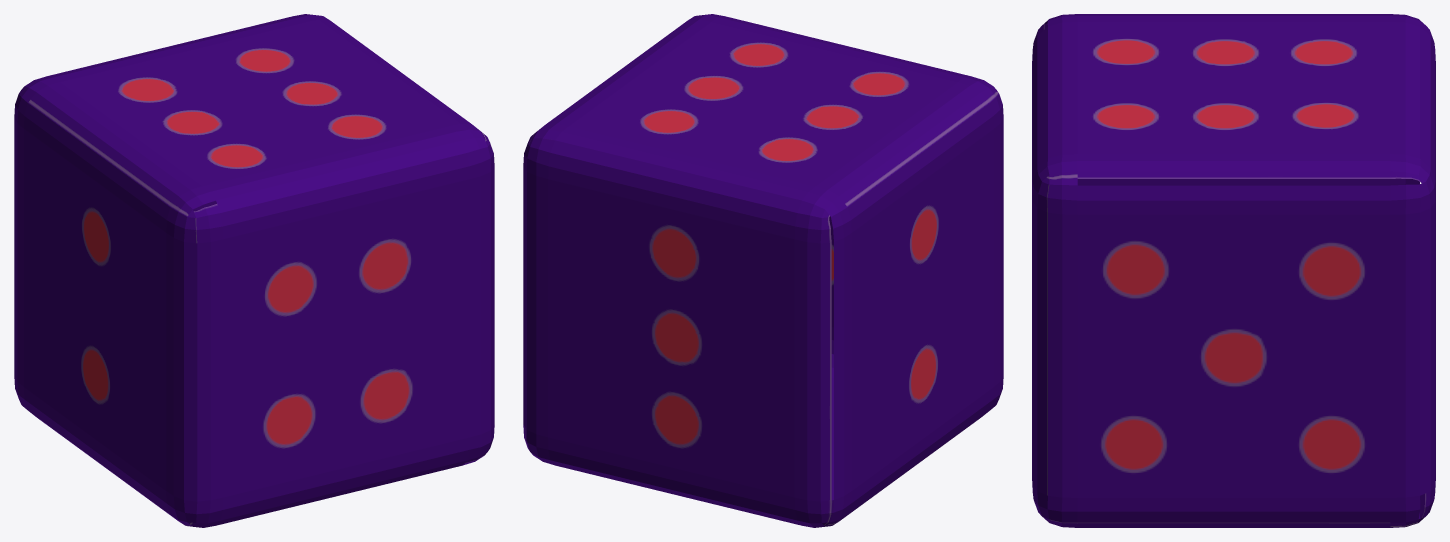
The model's file is Dado 1.fbx.
3 views of the same model, side by side, from view 1: azimuth 30°, elevation 25°; view 2: azimuth 150°, elevation 25°; view 3: azimuth 270°, elevation 25° (orthographic). The views are drawn at different scales.
Visible parts, largest first — view 1: Cube; view 2: Cube; view 3: Cube.
Boxes of the visible parts, left/top/right/bottom form: Cube: left=14, top=14, right=494, bottom=527; Cube: left=523, top=14, right=1003, bottom=527; Cube: left=1032, top=14, right=1435, bottom=527.
Size of the model in its own units: 200 by 200 by 200.
Materials: 1 (1 with a texture image).
